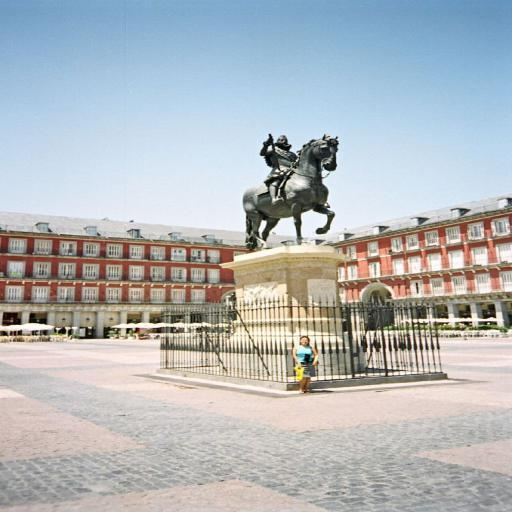horse: (244, 136, 340, 250)
